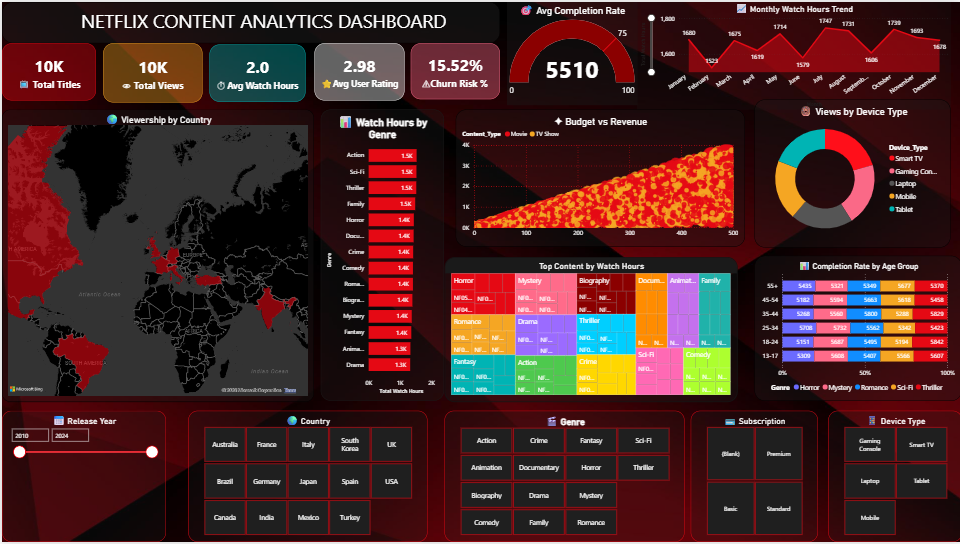

This screenshot's page, from the dashboard's own definition file:
{"tool":"powerbi","page":{"name":"Page 1","canvas":[1920,1080],"ordinal":0},"visuals":[{"type":"textbox","box":[0,0,996,82],"z":0},{"type":"card","fields":{"Values":["Content Library.Total Titles"]},"box":[0,82,188,114],"z":1000},{"type":"card","fields":{"Values":["Viewership Data.Total Views"]},"box":[202,82,198,118],"z":2000},{"type":"card","fields":{"Values":["Subscription & Engage.Avg Watch Hours"]},"box":[416,84,192,114],"z":3000},{"type":"card","fields":{"Values":["Ratings & Reviews.Avg User Rating"]},"box":[624,82,180,114],"z":4000},{"type":"card","fields":{"Values":["Subscription & Engage.Churn Risk %"]},"box":[818,82,178,112],"z":5000},{"type":"clusteredBarChart","title":"📊 Watch Hours by Genre","fields":{"Category":["Content Library.Genre"],"Y":["Subscription & Engage.Total Watch Hours"]},"box":[638,216,246,582],"z":6000},{"type":"lineChart","title":"📈 Monthly Watch Hours Trend","fields":{"Category":["Viewership Data.View_Date.Variation.Date Hierarchy.Year","Viewership Data.View_Date.Variation.Date Hierarchy.Month","Viewership Data.View_Date.Variation.Date Hierarchy.Day"],"Y":["Subscription & Engage.Total Watch Hours"]},"box":[1270.4,0,628,215.3],"z":7000},{"type":"donutChart","title":"🍩 Views by Device Type","fields":{"Category":["Viewership Data.Device_Type"],"Y":["Viewership Data.Total Views"]},"box":[1505.6,215.3,392.7,275.1],"z":8000},{"type":"scatterChart","title":"✦ Budget vs Revenue","fields":{"X":["Sum(Production Details.Budget_M_USD)"],"Y":["Sum(Production Details.Revenue_M_USD)"],"Series":["Content Library.Content_Type"],"Category":["Content Library.Content_ID"],"Size":["Sum(Production Details.Awards_Won)"]},"box":[884.9,215.3,600.8,275.1],"z":9000},{"type":"hundredPercentStackedBarChart","title":" 📊 Completion Rate by Age Group","fields":{"Category":["Viewership Data.Age_Group"],"Y":["Viewership Data.Avg Completion Rate"],"Series":["Content Library.Genre"]},"box":[1485.7,508.5,434.3,289.5],"z":10000},{"type":"gauge","title":"🎯 Avg Completion Rate","fields":{"Y":["Viewership Data.Avg Completion Rate"]},"box":[1009.8,0,260.6,206.3],"z":11000},{"type":"treemap","title":"Top Content by Watch Hours","fields":{"Group":["Content Library.Genre"],"Details":["Content Library.Content_ID"],"Values":["Subscription & Engage.Total Watch Hours"]},"box":[883.1,490.4,586.3,309.5],"z":12000},{"type":"filledMap","title":"🌍 Viewership by Country","fields":{"Category":["Content Library.Country"]},"box":[0,215.3,624.3,584.5],"z":13000},{"type":"slicer","title":"📅 Release Year","fields":{"Values":["Content Library.Release_Year"]},"box":[12.7,818,314.9,244.3],"z":14000},{"type":"slicer","title":"💳 Subscription","fields":{"Values":["Subscription & Engage.Subscription_Type"]},"box":[1359.1,818,273.3,244.3],"z":15000},{"type":"slicer","title":"🎬 Genre","fields":{"Values":["Content Library.Genre"]},"box":[865,818,477.8,244.3],"z":16000},{"type":"slicer","title":"🌍 Country","fields":{"Values":["Content Library.Country"]},"box":[343.8,818,506.7,244.3],"z":17000},{"type":"slicer","title":"📱 Device Type","fields":{"Values":["Viewership Data.Device_Type"]},"box":[1652.2,818,267.8,244.3],"z":18000}]}

Visuals, with their boxes in screenshot pixels (x1, y1, x2, y2), scaled from the page's 1920x1080 canvas onto the 960x544 screenshot:
textbox: box(0, 0, 498, 41)
card - Content Library.Total Titles: box(0, 41, 94, 99)
card - Viewership Data.Total Views: box(101, 41, 200, 101)
card - Subscription & Engage.Avg Watch Hours: box(208, 42, 304, 100)
card - Ratings & Reviews.Avg User Rating: box(312, 41, 402, 99)
card - Subscription & Engage.Churn Risk %: box(409, 41, 498, 98)
"📊 Watch Hours by Genre" clusteredBarChart: box(319, 109, 442, 402)
"📈 Monthly Watch Hours Trend" lineChart: box(635, 0, 949, 108)
"🍩 Views by Device Type" donutChart: box(753, 108, 949, 247)
"✦ Budget vs Revenue" scatterChart: box(442, 108, 743, 247)
" 📊 Completion Rate by Age Group" hundredPercentStackedBarChart: box(743, 256, 959, 402)
"🎯 Avg Completion Rate" gauge: box(505, 0, 635, 104)
"Top Content by Watch Hours" treemap: box(442, 247, 735, 403)
"🌍 Viewership by Country" filledMap: box(0, 108, 312, 403)
"📅 Release Year" slicer: box(6, 412, 164, 535)
"💳 Subscription" slicer: box(680, 412, 816, 535)
"🎬 Genre" slicer: box(432, 412, 671, 535)
"🌍 Country" slicer: box(172, 412, 425, 535)
"📱 Device Type" slicer: box(826, 412, 959, 535)
